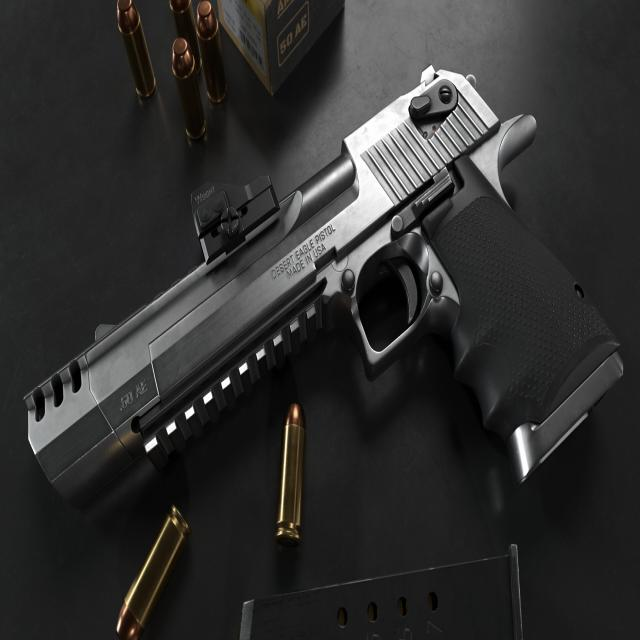handgun: (26, 58, 622, 566)
